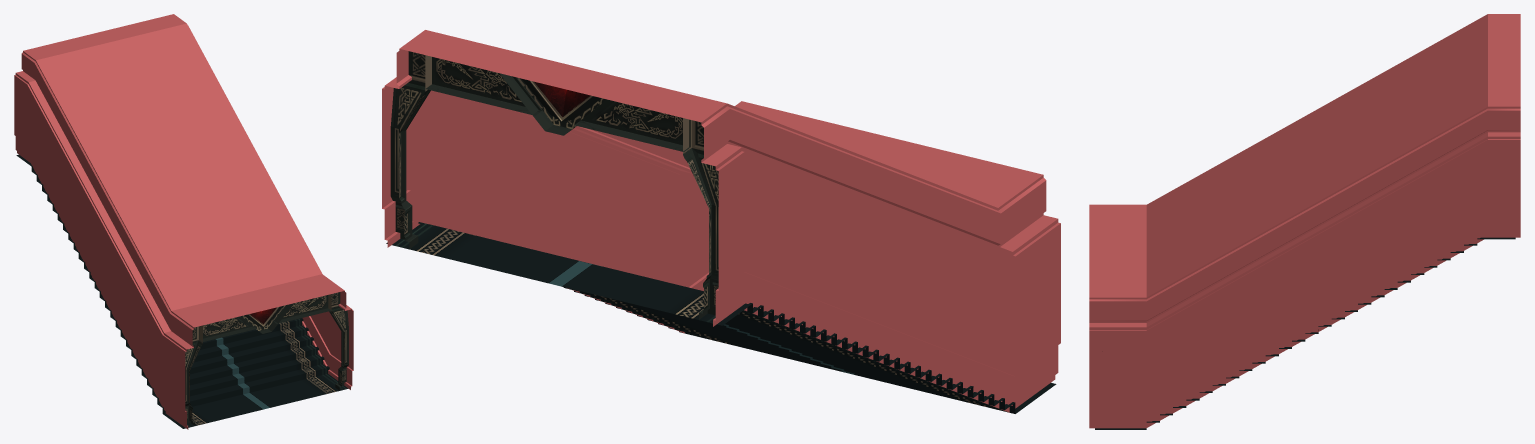
The model's file is Escalier.fbx.
3 renders of one model, left to right at view 1: azimuth 30°, elevation 25°; view 2: azimuth 150°, elevation 25°; view 3: azimuth 270°, elevation 25°, orthographic. The views are drawn at different scales.
Parts seen in each view (by area): view 1: MursEscaliers, escaliers; view 2: MursEscaliers, escaliers; view 3: MursEscaliers, escaliers.
Boxes of the visible parts, <box> form: MursEscaliers: <box>14,14,353,429</box>; escaliers: <box>16,154,348,428</box>; MursEscaliers: <box>382,30,1060,412</box>; escaliers: <box>386,51,1056,413</box>; MursEscaliers: <box>1089,14,1520,428</box>; escaliers: <box>1095,237,1515,429</box>.
Size of what is drawn, in the model's own units: 6.98 by 10 by 12.29.
Materials: 2 (1 with a texture image).
